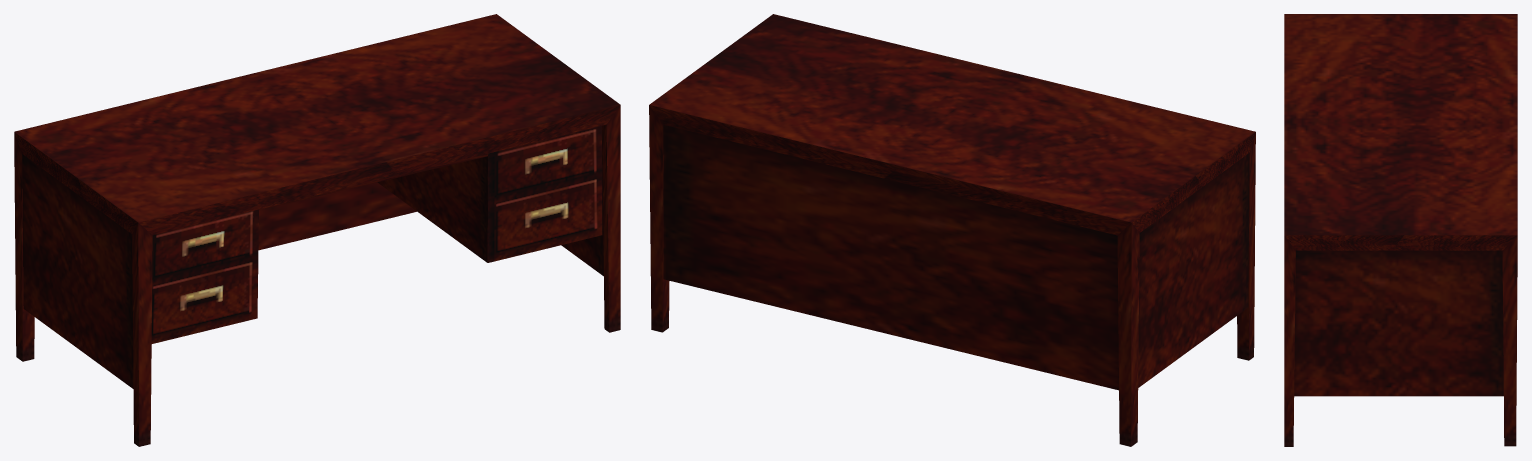
Rendered from desk_med_reg_brnwd.fbx.
3 views of the same model, side by side, from view 1: azimuth 30°, elevation 25°; view 2: azimuth 150°, elevation 25°; view 3: azimuth 270°, elevation 25° (orthographic). The views are drawn at different scales.
Parts seen in each view (by area): view 1: mesh_0; view 2: mesh_0; view 3: mesh_0.
Boxes of the visible parts, x1=… form: mesh_0: x1=14, y1=14, x2=620, y2=446; mesh_0: x1=649, y1=14, x2=1255, y2=446; mesh_0: x1=1284, y1=14, x2=1517, y2=446.
Bounding box in the file's own units: 179 × 80 × 80.
Materials: 1 (1 with a texture image).
